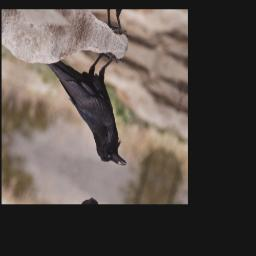Crow: (28, 31, 152, 175)
